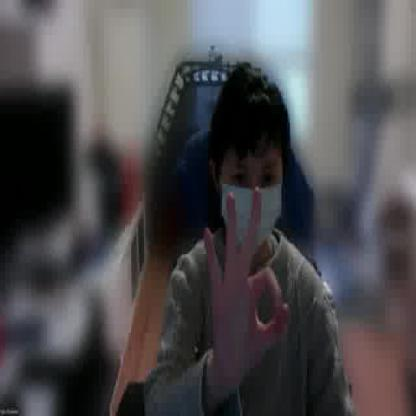nine: (198, 184, 292, 382)
